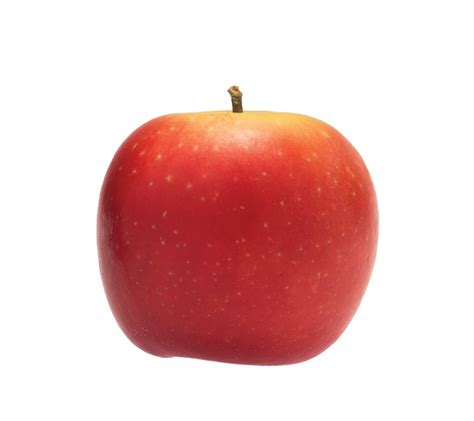apple: (93, 84, 385, 371)
